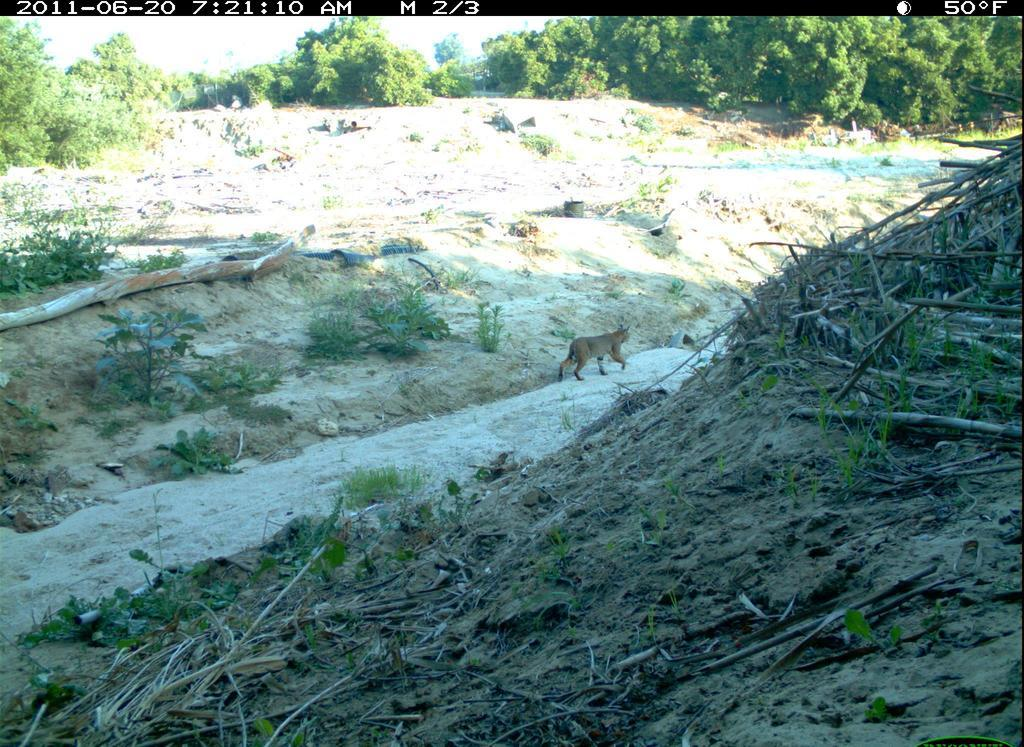bobcat: (553, 319, 637, 391)
